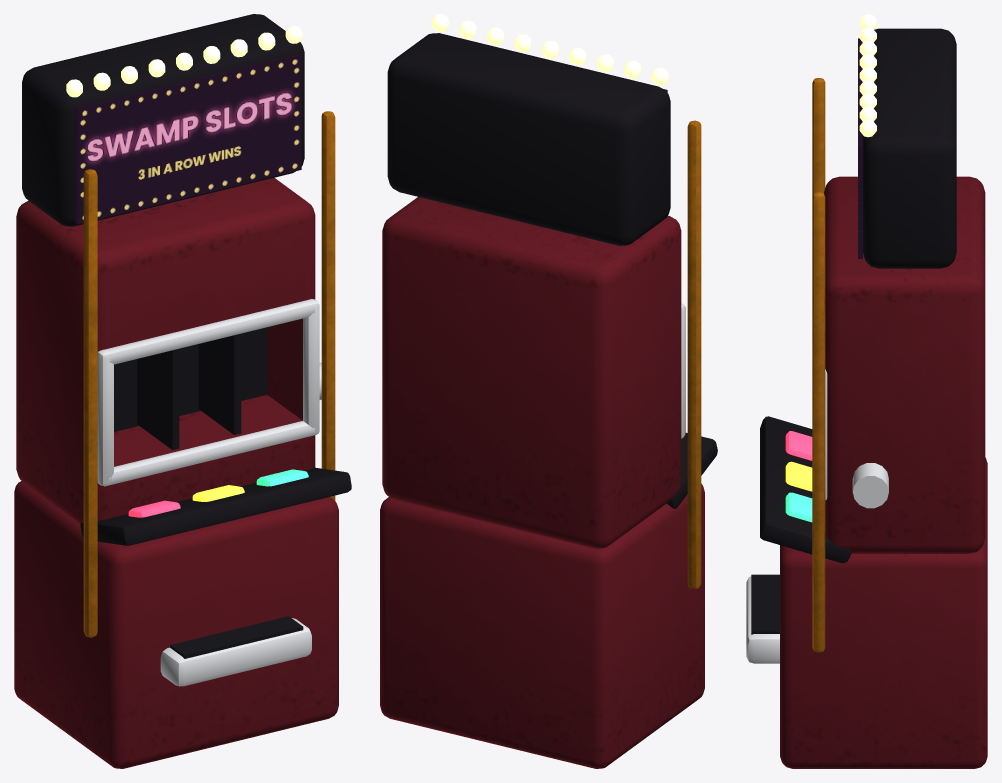
File: slot-red.glb
The picture shows the model from 3 angles, left to right: view 1: azimuth 30°, elevation 25°; view 2: azimuth 150°, elevation 25°; view 3: azimuth 270°, elevation 25°; orthographic projection.
Parts seen in each view (by area): view 1: slot-red; view 2: slot-red; view 3: slot-red.
Boxes of the visible parts, bbox=[...] form: slot-red: bbox=[14, 14, 351, 768]; slot-red: bbox=[380, 14, 717, 768]; slot-red: bbox=[746, 14, 987, 768].
Size of the model in its own units: 1.16 by 2.77 by 0.93.
Materials: 9 (3 with a texture image).
